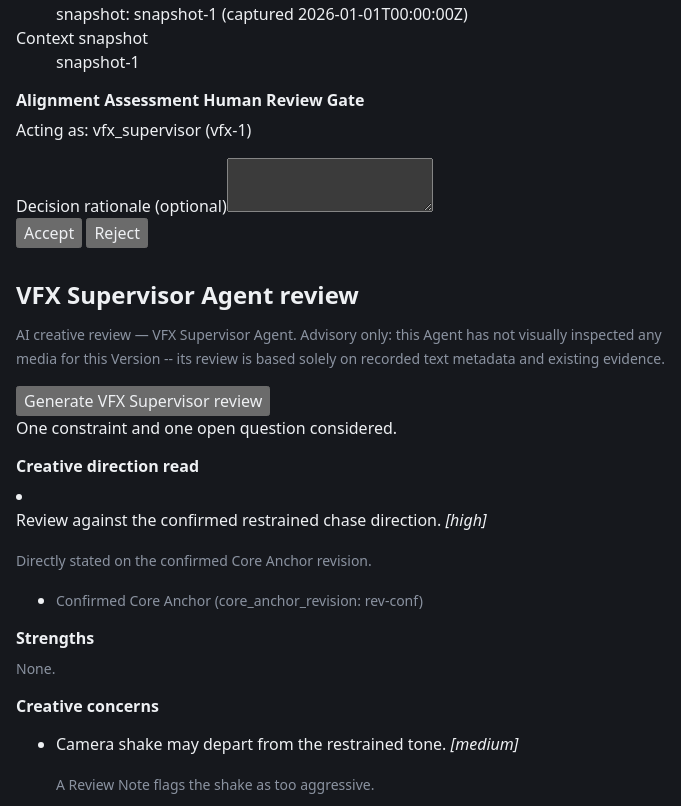
VersionPage › VFX Supervisor Agent review (Step 3) › shows an error when generation fails
(page scrolled)
Click the button "Generate VFX Supervisor review": (143, 401) [16, 386, 270, 416]
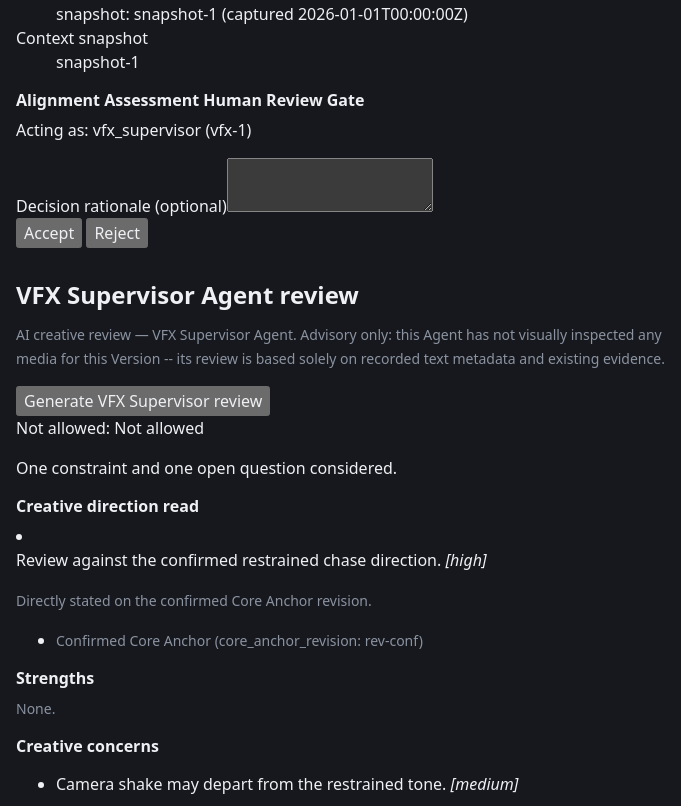
Expected: the message shows "Not allowed", [16, 417, 204, 439]
